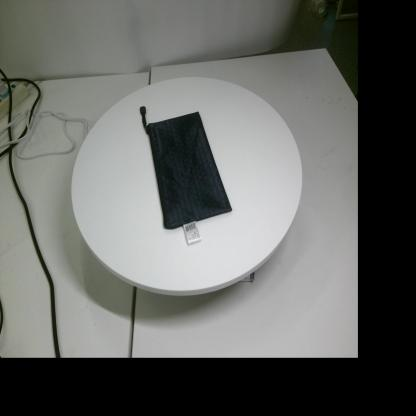Stationery: (140, 106, 232, 246)
